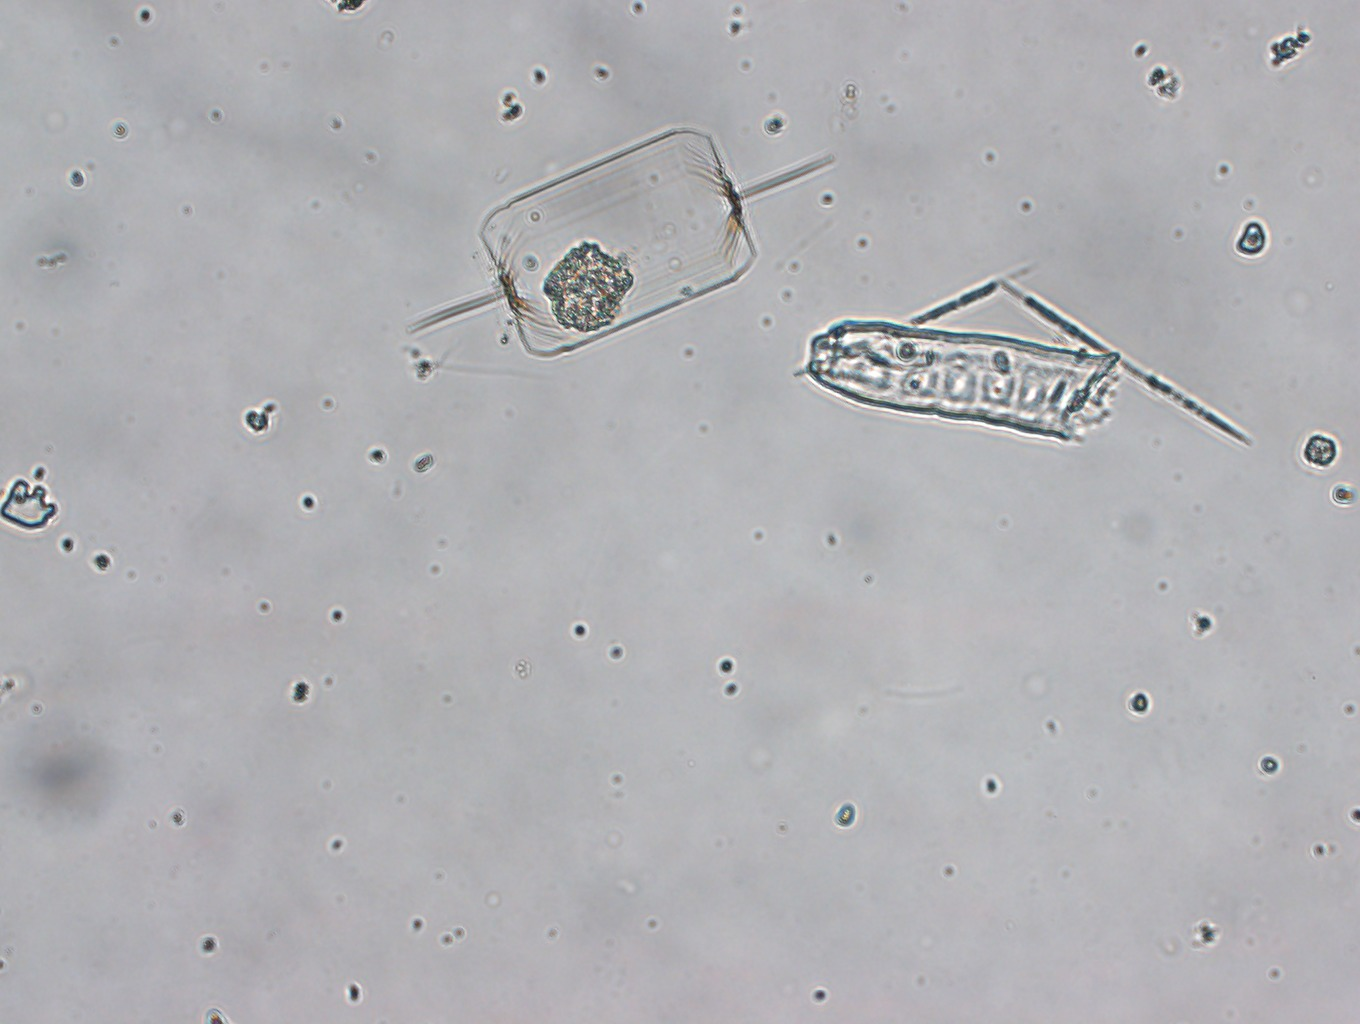ditylum: (409, 118, 840, 395)
